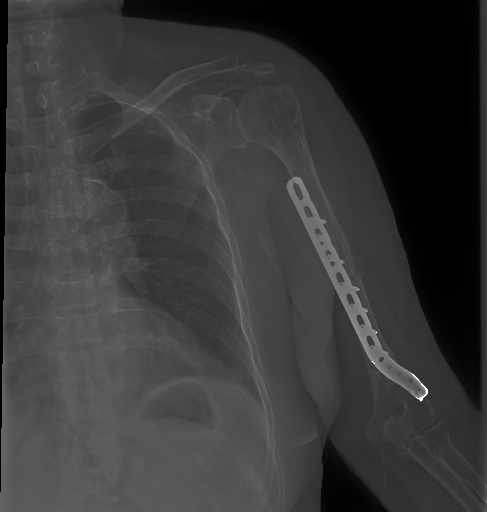implant: (283, 176, 428, 403)
